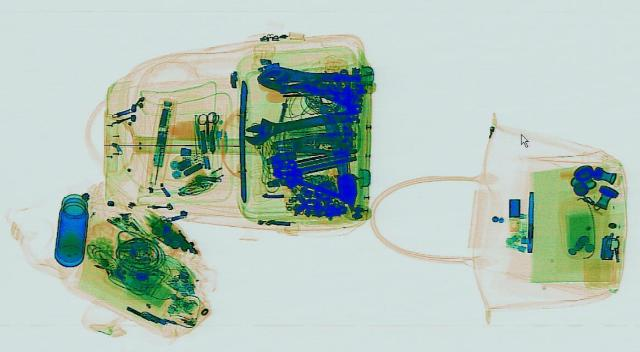Pliers: (252, 64, 362, 97), (268, 134, 352, 155)
Wrench: (230, 101, 362, 145)
